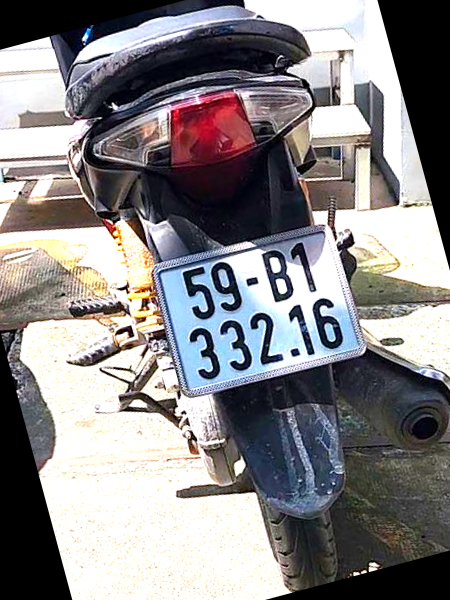number: (156, 223, 354, 389)
